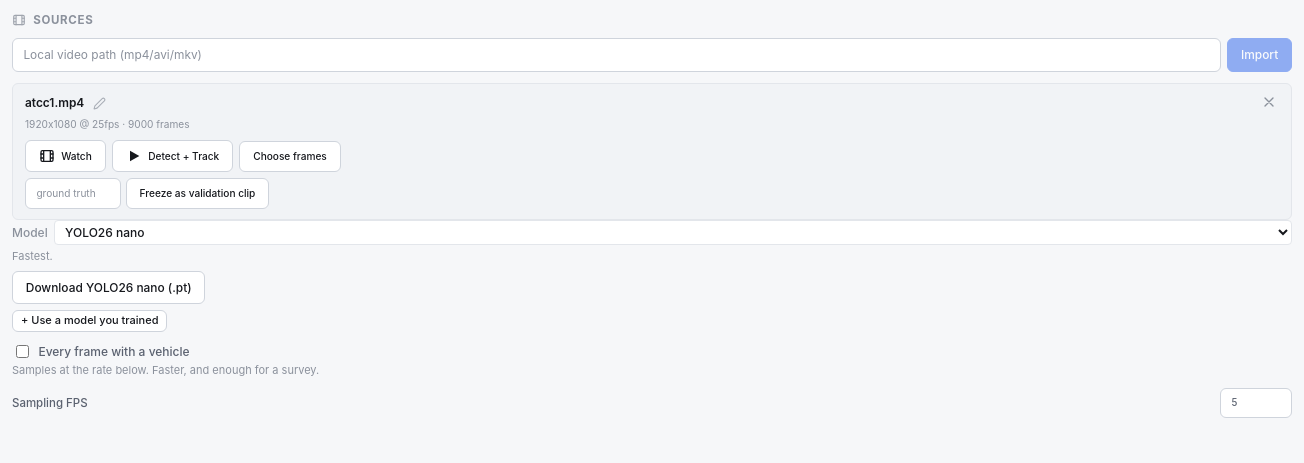
Bringing your own model in › says what a model you trained detects, since the menu name will not
Select "gantry_v3 (yours)" in the dropdown labelled "Model" at [673, 233], box [54, 220, 1292, 245]
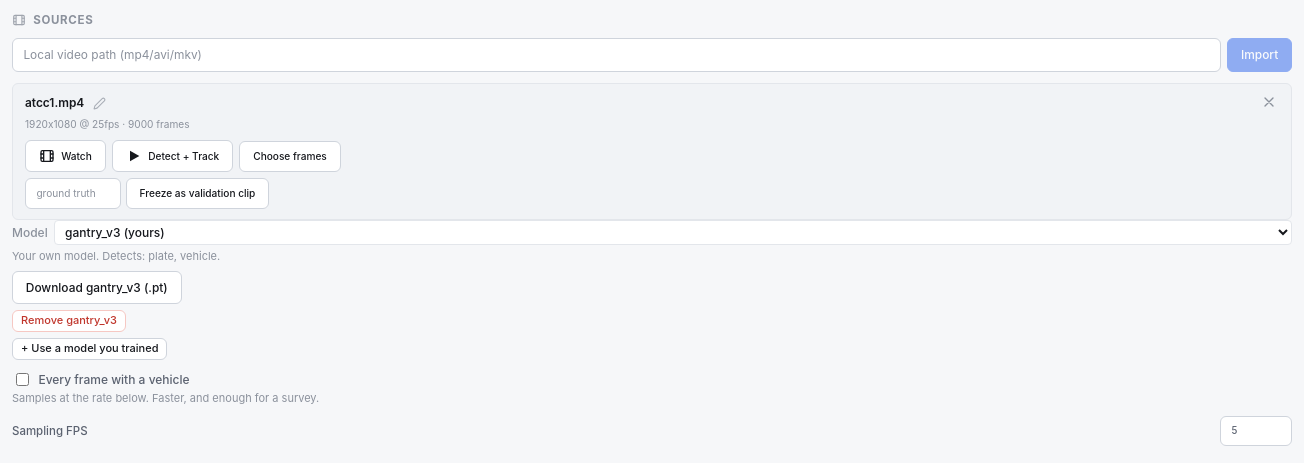
Check: the text "Your own model. Detects: plate, vehicle." is shown, box [12, 249, 220, 263]
